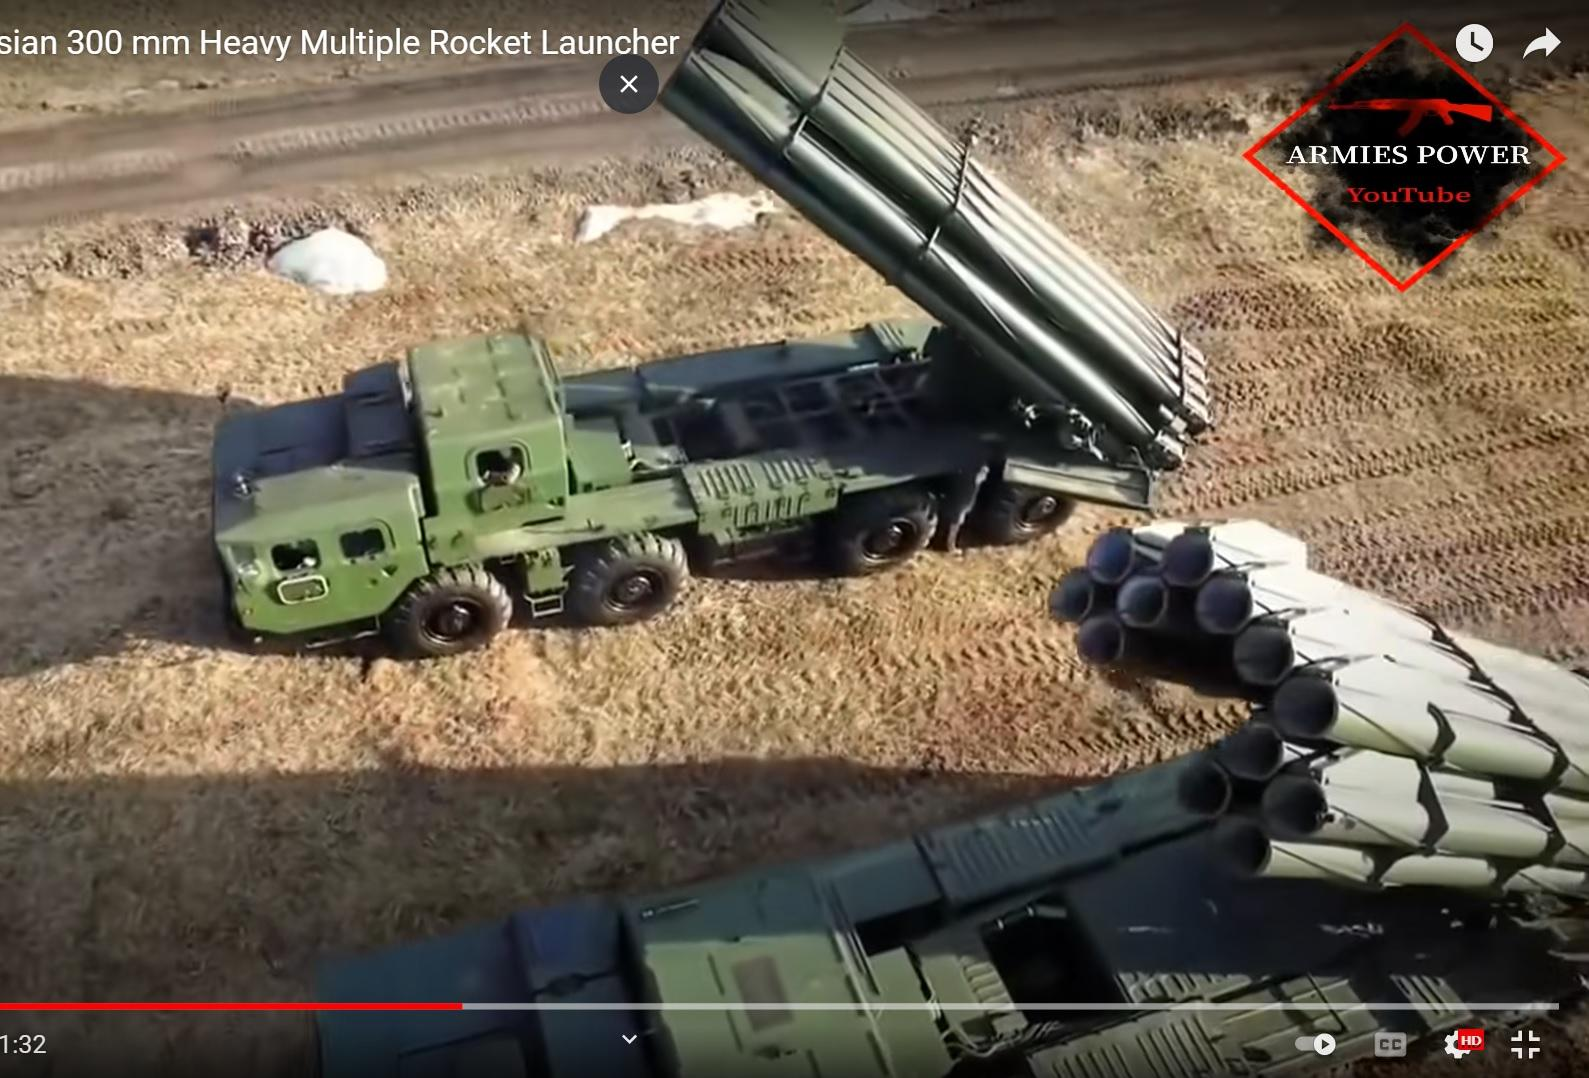MIL_SAM_TEL: (300, 519, 1589, 1078), (183, 0, 1226, 675)
